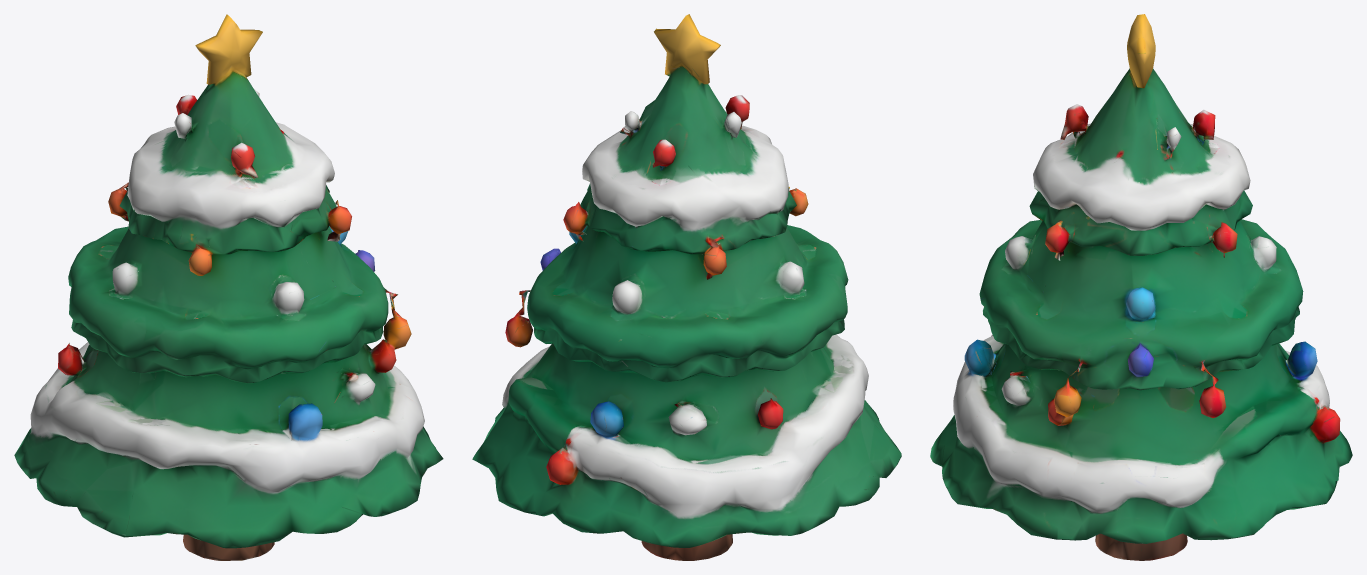
Rendered from christmas_tree.glb.
3 views of the same model, side by side, from view 1: azimuth 30°, elevation 25°; view 2: azimuth 150°, elevation 25°; view 3: azimuth 270°, elevation 25° (orthographic).
Visible parts, largest first — view 1: Christmas_pine_tree_w_1208050332_texture; view 2: Christmas_pine_tree_w_1208050332_texture; view 3: Christmas_pine_tree_w_1208050332_texture.
Part boxes in pixels (left/top/right/bottom): Christmas_pine_tree_w_1208050332_texture: left=14, top=14, right=443, bottom=560; Christmas_pine_tree_w_1208050332_texture: left=472, top=14, right=901, bottom=560; Christmas_pine_tree_w_1208050332_texture: left=930, top=14, right=1352, bottom=560.
Bounding box in the file's own units: 1.39 × 1.91 × 1.39.
Materials: 1 (1 with a texture image).
